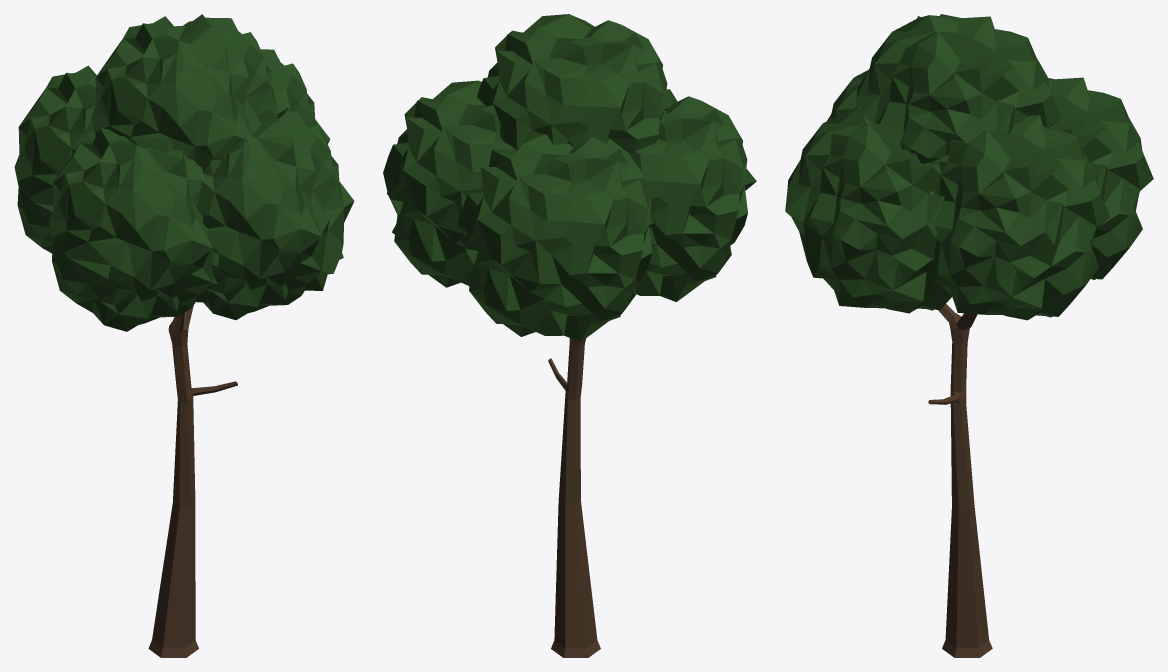
File: tree 3.fbx
3 views of the same model, side by side, from view 1: azimuth 30°, elevation 25°; view 2: azimuth 150°, elevation 25°; view 3: azimuth 270°, elevation 25° (orthographic).
Visible parts, largest first — view 1: LowPoly Tree .011; view 2: LowPoly Tree .011; view 3: LowPoly Tree .011.
Boxes of the visible parts, bbox=[...] form: LowPoly Tree .011: bbox=[14, 14, 354, 657]; LowPoly Tree .011: bbox=[383, 14, 756, 657]; LowPoly Tree .011: bbox=[785, 14, 1153, 657].
Bounding box in the file's own units: 108 × 214 × 114.
